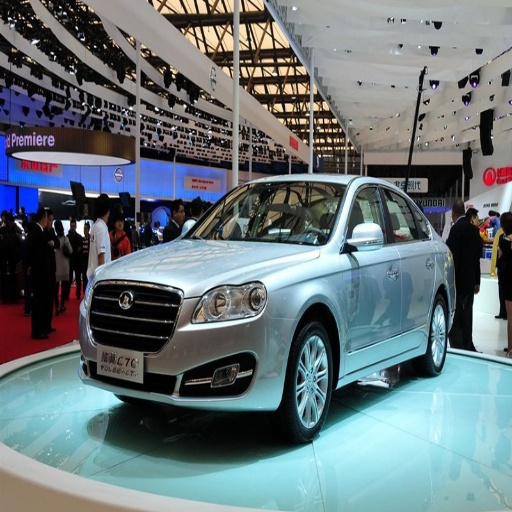front_bumper: (77, 280, 296, 410)
front_glass: (185, 184, 345, 246)
front_left_door: (343, 181, 401, 366)
